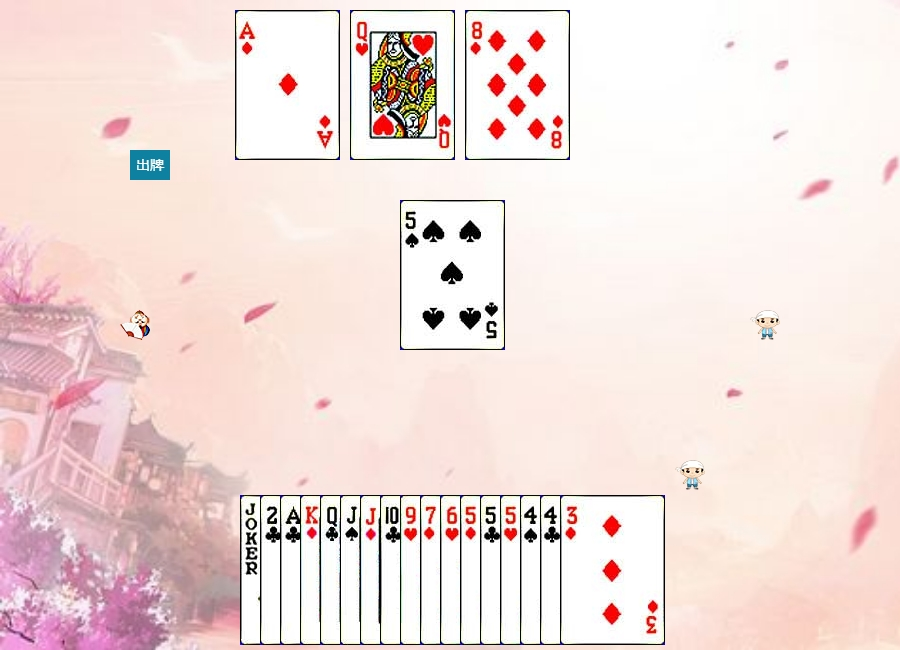10~2: (380, 495, 485, 645)
11~1: (360, 495, 465, 645)
11~4: (340, 495, 445, 645)
12~2: (320, 495, 425, 645)
12~3: (350, 10, 455, 160)
13~1: (300, 495, 405, 645)
14~1: (235, 10, 340, 160)
14~2: (280, 495, 385, 645)
15~2: (260, 495, 365, 645)
17~3: (240, 495, 345, 645)
3~1: (560, 495, 665, 645)
4~2: (540, 495, 645, 645)
4~4: (520, 495, 625, 645)
5~1: (460, 495, 565, 645)
5~2: (480, 495, 585, 645)
5~3: (500, 495, 605, 645)
5~4: (400, 200, 505, 350)
6~3: (440, 495, 545, 645)
7~1: (420, 495, 525, 645)
8~1: (465, 10, 570, 160)
9~3: (400, 495, 505, 645)
